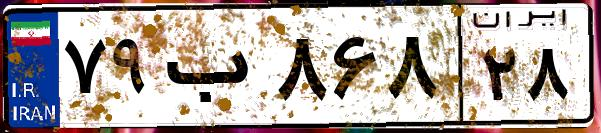2: (475, 38, 525, 113)
6: (330, 28, 385, 110)
7: (57, 26, 110, 100)
8: (270, 28, 330, 110), (385, 28, 445, 110), (525, 38, 570, 115)
9: (110, 28, 158, 98)
ب: (158, 20, 270, 120)
